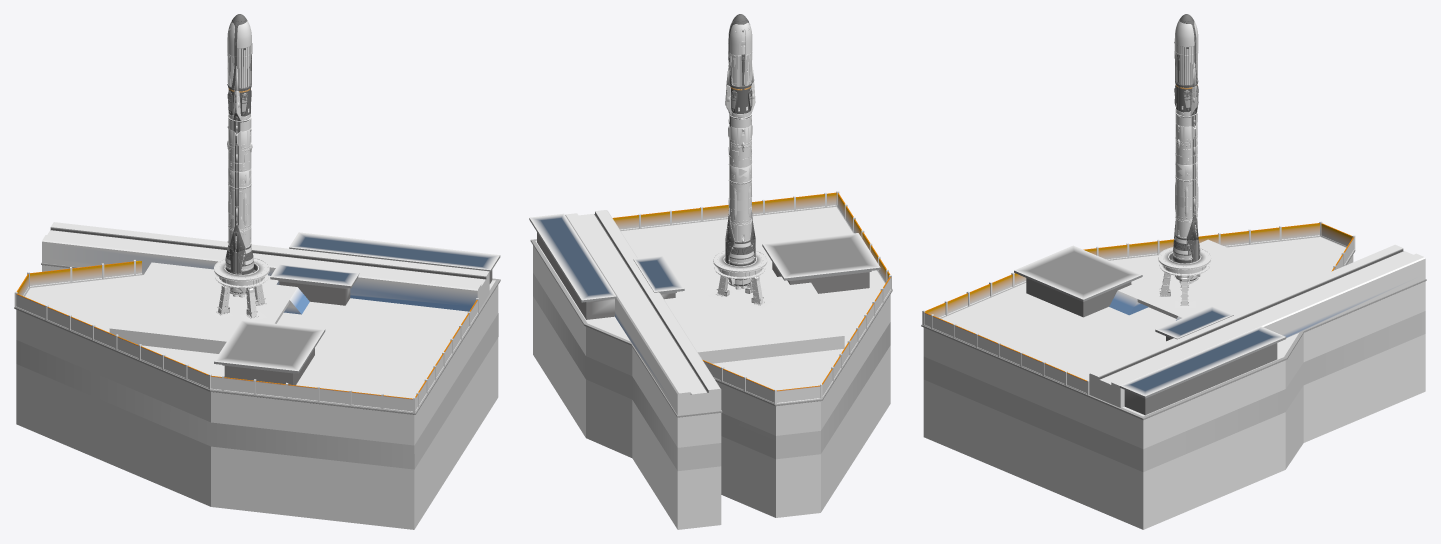
The model's file is cell_157_97.fbx.
3 views of the same model, side by side, from view 1: azimuth 30°, elevation 25°; view 2: azimuth 150°, elevation 25°; view 3: azimuth 270°, elevation 25° (orthographic). The views are drawn at different scales.
Parts seen in each view (by area): view 1: SM_I_RoadFacility_Ground_L_15B.mo.002, SM_I_RoadFacility_Ground_L_15B_Decal.mo.002, SM_H_Industrial_ISS_RocketBody_02.mo, SM_H_Industrial_ISS_LaunchLauncher_02.mo.002; view 2: SM_I_RoadFacility_Ground_L_15B.mo.002, SM_I_RoadFacility_Ground_L_15B_Decal.mo.002, SM_H_Industrial_ISS_RocketBody_02.mo, SM_H_Industrial_ISS_LaunchLauncher_02.mo.002; view 3: SM_I_RoadFacility_Ground_L_15B.mo.002, SM_I_RoadFacility_Ground_L_15B_Decal.mo.002, SM_H_Industrial_ISS_RocketBody_02.mo, SM_H_Industrial_ISS_LaunchLauncher_02.mo.002.
Part boxes in pixels (box(x1,y1,x2,y2)): SM_I_RoadFacility_Ground_L_15B.mo.002: box(14, 222, 500, 529); SM_I_RoadFacility_Ground_L_15B_Decal.mo.002: box(16, 313, 498, 469); SM_H_Industrial_ISS_RocketBody_02.mo: box(225, 14, 253, 297); SM_H_Industrial_ISS_LaunchLauncher_02.mo.002: box(214, 257, 269, 288); SM_I_RoadFacility_Ground_L_15B.mo.002: box(529, 191, 892, 529); SM_I_RoadFacility_Ground_L_15B_Decal.mo.002: box(533, 273, 890, 471); SM_H_Industrial_ISS_RocketBody_02.mo: box(725, 14, 755, 289); SM_H_Industrial_ISS_LaunchLauncher_02.mo.002: box(713, 250, 767, 279); SM_I_RoadFacility_Ground_L_15B.mo.002: box(921, 221, 1426, 529); SM_I_RoadFacility_Ground_L_15B_Decal.mo.002: box(923, 311, 1425, 472); SM_H_Industrial_ISS_RocketBody_02.mo: box(1173, 14, 1200, 284); SM_H_Industrial_ISS_LaunchLauncher_02.mo.002: box(1158, 247, 1211, 276).
Size of the model in its own units: 143 by 147 by 166.
